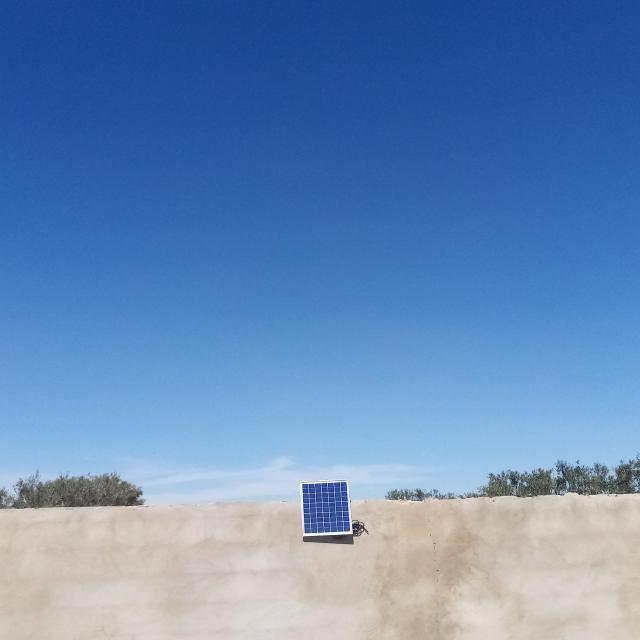Normal Solar Panel: (300, 480, 353, 536)
